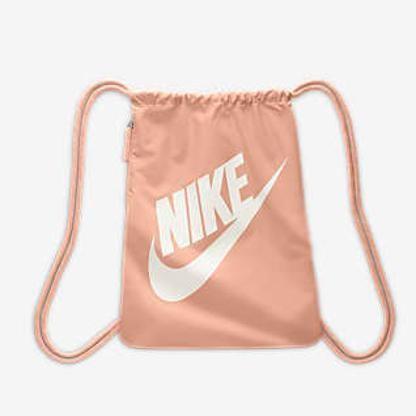not trash: (33, 81, 395, 369)
